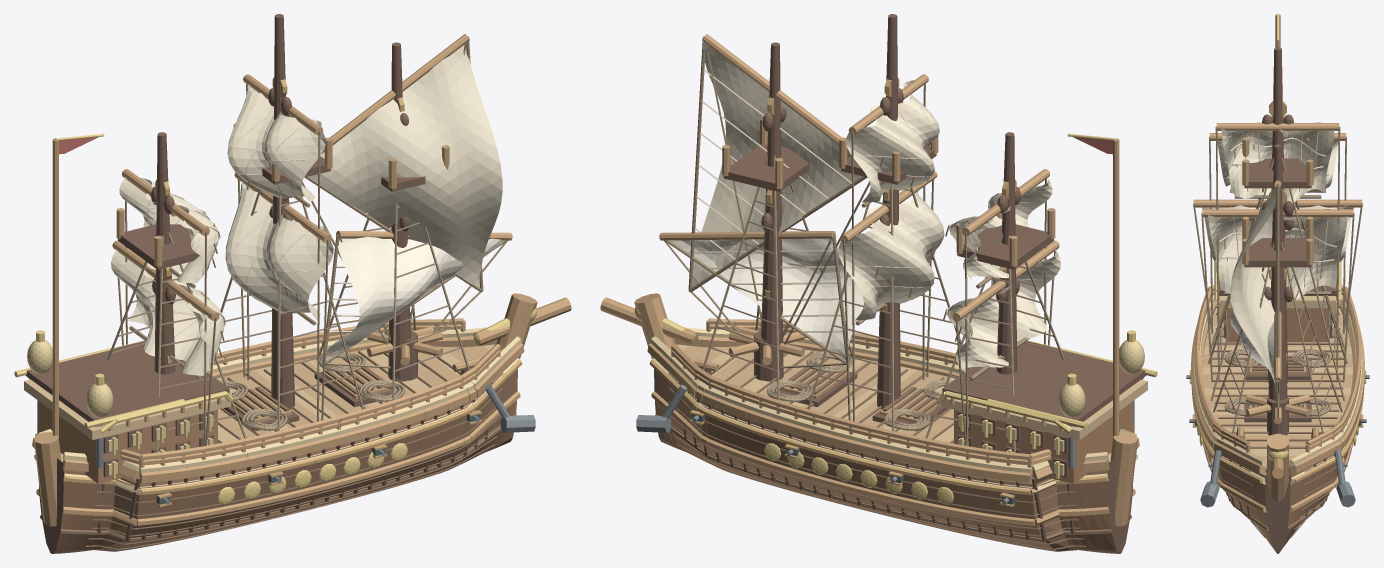
Rendered from carrack-v5.glb.
3 renders of one model, left to right at view 1: azimuth 30°, elevation 25°; view 2: azimuth 150°, elevation 25°; view 3: azimuth 270°, elevation 25°, orthographic. The views are drawn at different scales.
Visible parts, largest first — view 1: carrack_sails_sail, carrack_hull_wood, carrack_masts_darkwood, carrack_hull_hull, carrack_deck_darkwood, carrack_hull_seam, carrack_sails_sailbright, carrack_railings_wood, carrack_hull_pale, carrack_rigging_rope, carrack_rigging_wood, carrack_hull_hull2 (+19 smaller); view 2: carrack_sails_sail, carrack_masts_darkwood, carrack_hull_wood, carrack_hull_hull, carrack_rigging_rope, carrack_deck_darkwood, carrack_sails_sailbright, carrack_hull_seam, carrack_railings_wood, carrack_rigging_wood, carrack_hull_pale, carrack_hull_hull2 (+20 smaller); view 3: carrack_sails_sail, carrack_masts_darkwood, carrack_hull_wood, carrack_hull_deck, carrack_rigging_rope, carrack_rigging_wood, carrack_hull_seam, carrack_masts_rope, carrack_railings_wood, carrack_hull_decklight, carrack_hull_hull, carrack_hull_pale (+17 smaller).
Part boxes in pixels (<box>): carrack_sails_sail: <box>111,44,502,375</box>; carrack_hull_wood: <box>32,293,571,526</box>; carrack_masts_darkwood: <box>118,14,425,408</box>; carrack_hull_hull: <box>56,369,517,551</box>; carrack_deck_darkwood: <box>25,341,229,477</box>; carrack_hull_seam: <box>40,350,517,550</box>; carrack_sails_sailbright: <box>326,237,504,360</box>; carrack_railings_wood: <box>120,318,500,477</box>; carrack_hull_pale: <box>35,327,521,494</box>; carrack_rigging_rope: <box>117,36,507,445</box>; carrack_rigging_wood: <box>112,34,512,321</box>; carrack_hull_hull2: <box>60,344,516,537</box>; carrack_sails_sail: <box>692,41,1060,372</box>; carrack_masts_darkwood: <box>723,14,1053,408</box>; carrack_hull_wood: <box>600,293,1139,526</box>; carrack_hull_hull: <box>654,368,1115,551</box>; carrack_rigging_rope: <box>664,36,1055,445</box>; carrack_deck_darkwood: <box>942,341,1146,477</box>; carrack_sails_sailbright: <box>670,238,863,359</box>; carrack_hull_seam: <box>654,351,1131,550</box>; carrack_railings_wood: <box>671,318,1051,477</box>; carrack_rigging_wood: <box>659,34,1059,321</box>; carrack_hull_pale: <box>650,327,1136,494</box>; carrack_hull_hull2: <box>655,344,1111,537</box>; carrack_sails_sail: <box>1202,122,1353,391</box>; carrack_masts_darkwood: <box>1244,47,1311,400</box>; carrack_hull_wood: <box>1191,300,1364,512</box>; carrack_hull_deck: <box>1203,313,1352,460</box>; carrack_rigging_rope: <box>1193,126,1362,416</box>; carrack_rigging_wood: <box>1193,123,1362,382</box>; carrack_hull_seam: <box>1205,321,1350,537</box>; carrack_masts_rope: <box>1208,158,1347,433</box>; carrack_railings_wood: <box>1194,285,1361,452</box>; carrack_hull_decklight: <box>1203,308,1352,455</box>; carrack_hull_hull: <box>1208,451,1347,547</box>; carrack_hull_pale: <box>1193,295,1362,484</box>.
Bounding box in the file's own units: 47.92 × 42.14 × 16.78.
